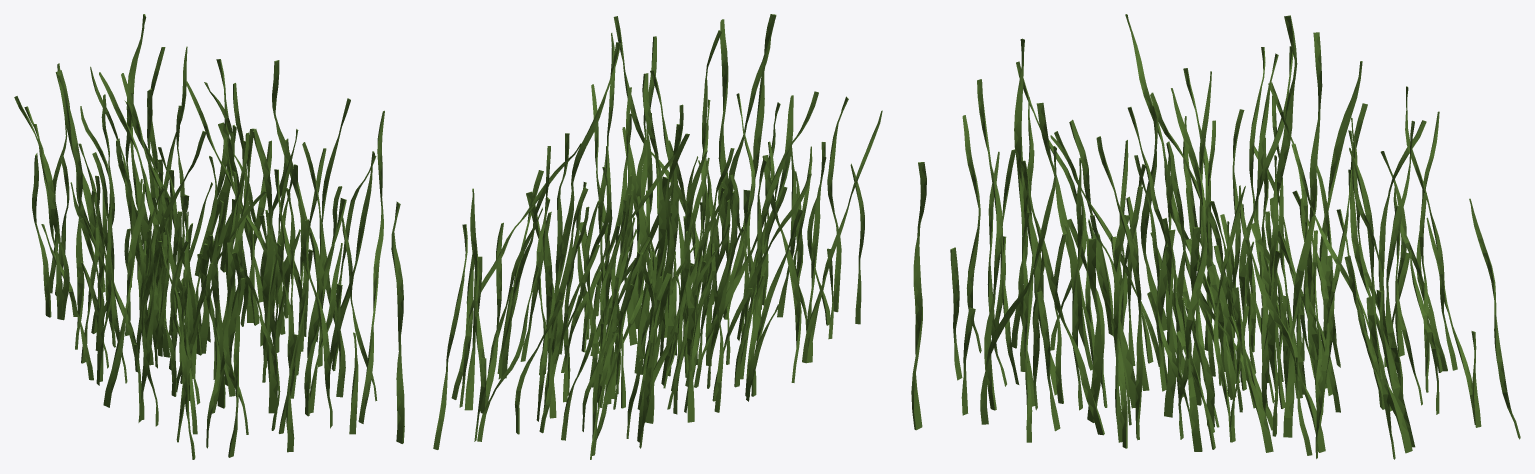
Rendered from plant_swamp_kelp_thick_A_dense.fbx.
3 renders of one model, left to right at view 1: azimuth 30°, elevation 25°; view 2: azimuth 150°, elevation 25°; view 3: azimuth 270°, elevation 25°, orthographic. The views are drawn at different scales.
Parts seen in each view (by area): view 1: plant_swamp_kelp_thick_A_dense; view 2: plant_swamp_kelp_thick_A_dense; view 3: plant_swamp_kelp_thick_A_dense.
Boxes of the visible parts, x1=… form: plant_swamp_kelp_thick_A_dense: x1=14, y1=14, x2=404, y2=459; plant_swamp_kelp_thick_A_dense: x1=433, y1=14, x2=882, y2=459; plant_swamp_kelp_thick_A_dense: x1=911, y1=14, x2=1520, y2=459.
Size of the model in its own units: 330 by 388 by 586.
